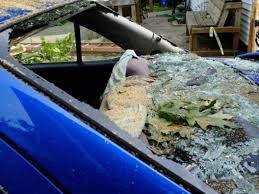Broken-glass: (9, 2, 243, 185)
